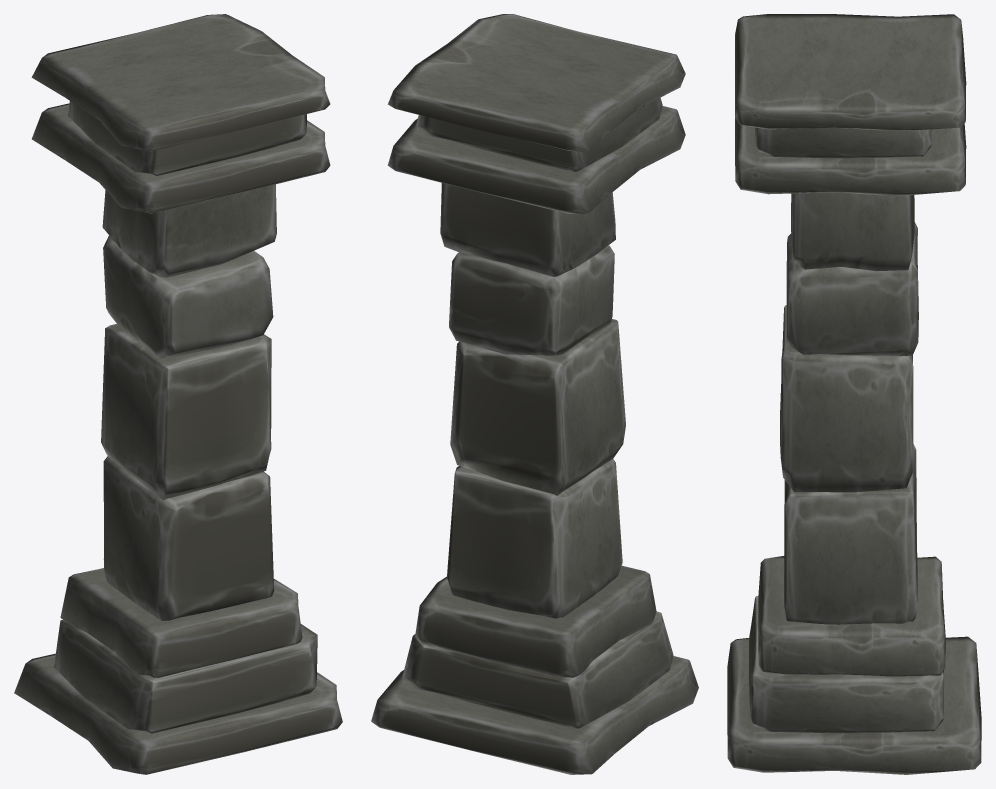
Rendered from Colomn_A.fbx.
3 views of the same model, side by side, from view 1: azimuth 30°, elevation 25°; view 2: azimuth 150°, elevation 25°; view 3: azimuth 270°, elevation 25° (orthographic). The views are drawn at different scales.
Parts seen in each view (by area): view 1: Colomn_A; view 2: Colomn_A; view 3: Colomn_A.
Part boxes in pixels (x1,y1,x2,y2): Colomn_A: (14, 14, 342, 774); Colomn_A: (371, 14, 698, 774); Colomn_A: (727, 14, 981, 774).
Size of the model in its own units: 532 by 1455 by 505.
